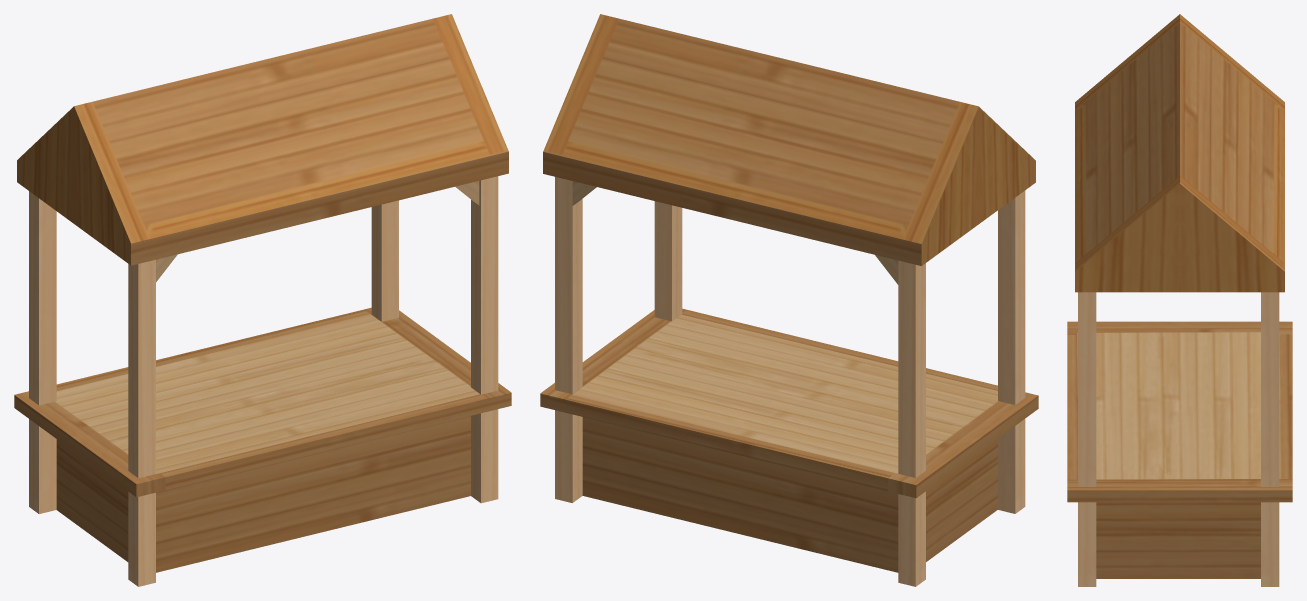
The model's file is ShopStall_001.fbx.
3 views of the same model, side by side, from view 1: azimuth 30°, elevation 25°; view 2: azimuth 150°, elevation 25°; view 3: azimuth 270°, elevation 25° (orthographic). The views are drawn at different scales.
Visible parts, largest first — view 1: ShopStall_001; view 2: ShopStall_001; view 3: ShopStall_001.
Part boxes in pixels (x1,y1,x2,y2): ShopStall_001: [14, 14, 511, 586]; ShopStall_001: [540, 14, 1038, 586]; ShopStall_001: [1067, 14, 1292, 586].
Size of the model in its own units: 11.95 by 13.37 by 6.7.
